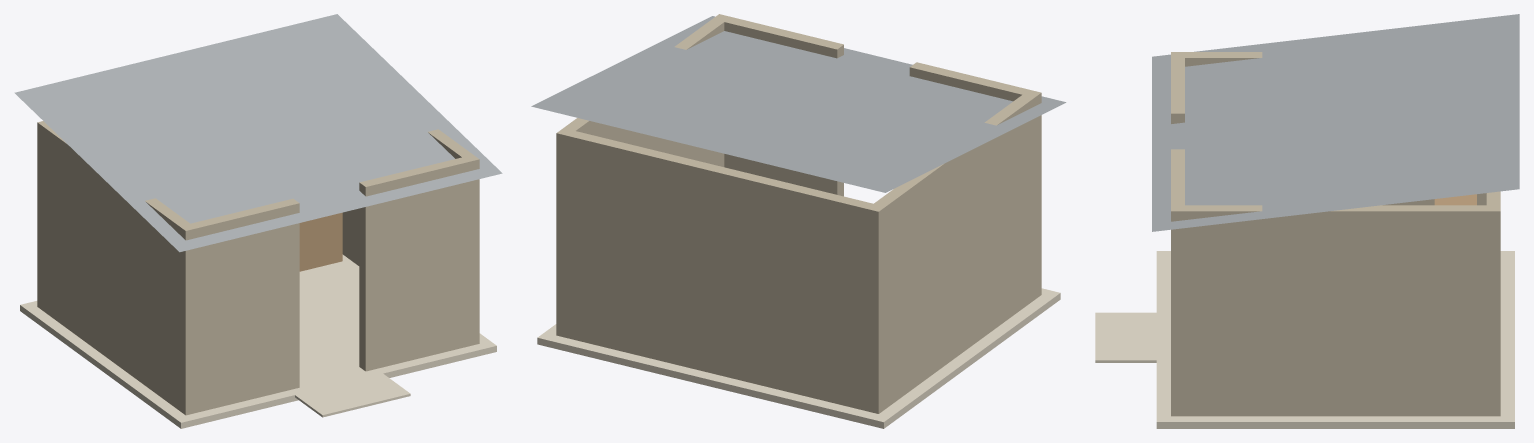
File: beekeeping-program.glb
The picture shows the model from 3 angles, left to right: view 1: azimuth 30°, elevation 25°; view 2: azimuth 150°, elevation 25°; view 3: azimuth 270°, elevation 25°; orthographic projection. The views are drawn at different scales.
Parts seen in each view (by area): view 1: board and batten, standing-seam metal, stone, timber; view 2: board and batten, standing-seam metal, stone; view 3: board and batten, standing-seam metal, stone, timber.
Part boxes in pixels (bbox=[...]): board and batten: bbox=[37, 121, 479, 415]; standing-seam metal: bbox=[14, 14, 502, 252]; stone: bbox=[20, 254, 496, 428]; timber: bbox=[299, 212, 342, 271]; board and batten: bbox=[556, 14, 1041, 413]; standing-seam metal: bbox=[531, 16, 1066, 192]; stone: bbox=[537, 288, 1060, 428]; board and batten: bbox=[1171, 52, 1500, 416]; standing-seam metal: bbox=[1152, 14, 1519, 231]; stone: bbox=[1095, 251, 1514, 428]; timber: bbox=[1434, 194, 1476, 205].
Size of the model in its own units: 4.4 by 2.83 by 4.5.
